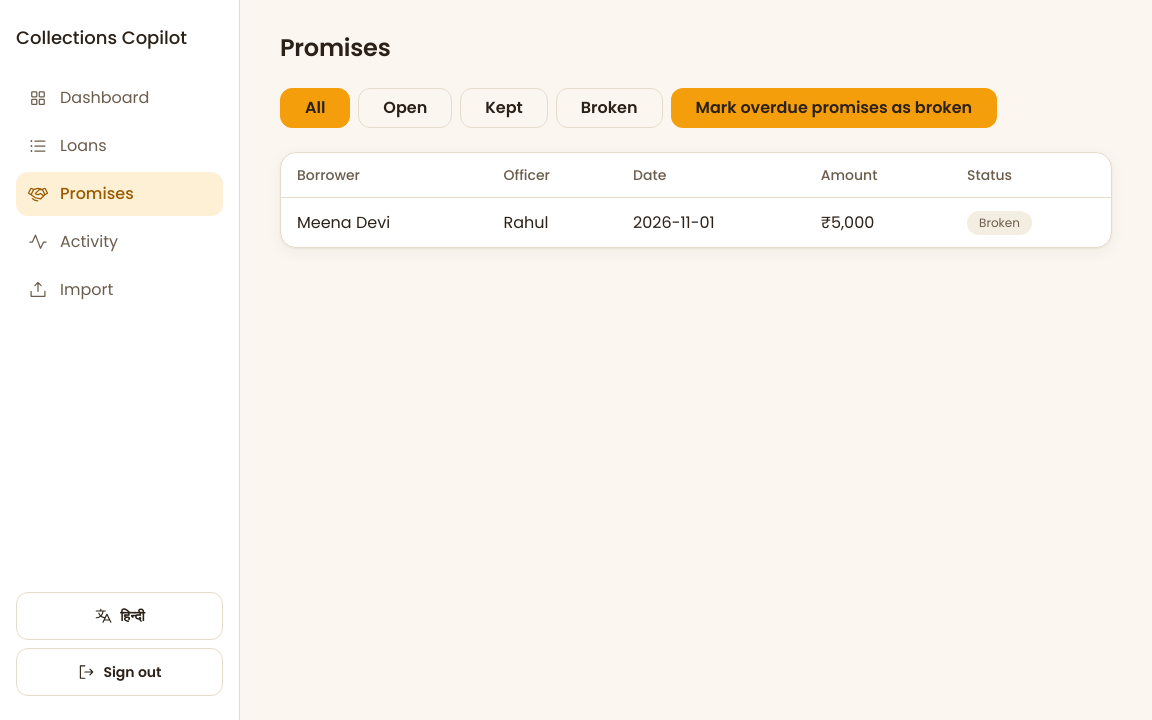
promise tracker › lists promises, filters by state through the API, and shows an empty state
Check: the text "Meena Devi" is shown, box [281,198,488,247]
Click the button "Kept" at (504, 108), box [460,88,548,128]
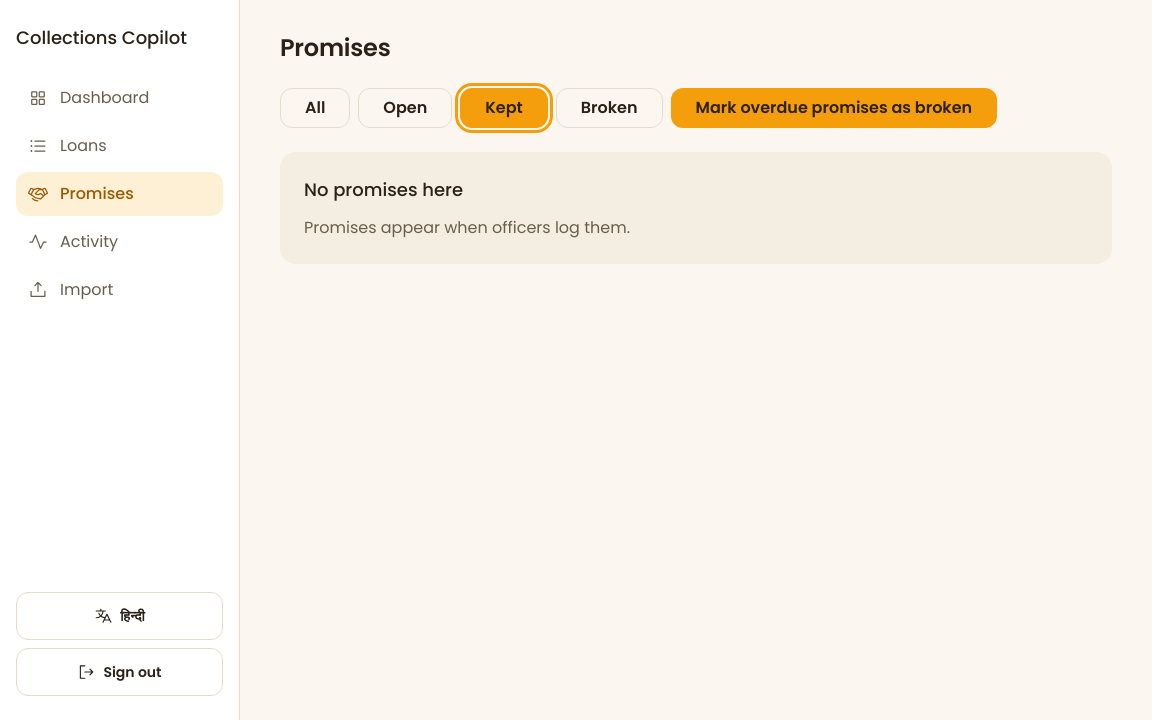
Check: the heading "No promises here" is shown, box [304,176,463,204]
